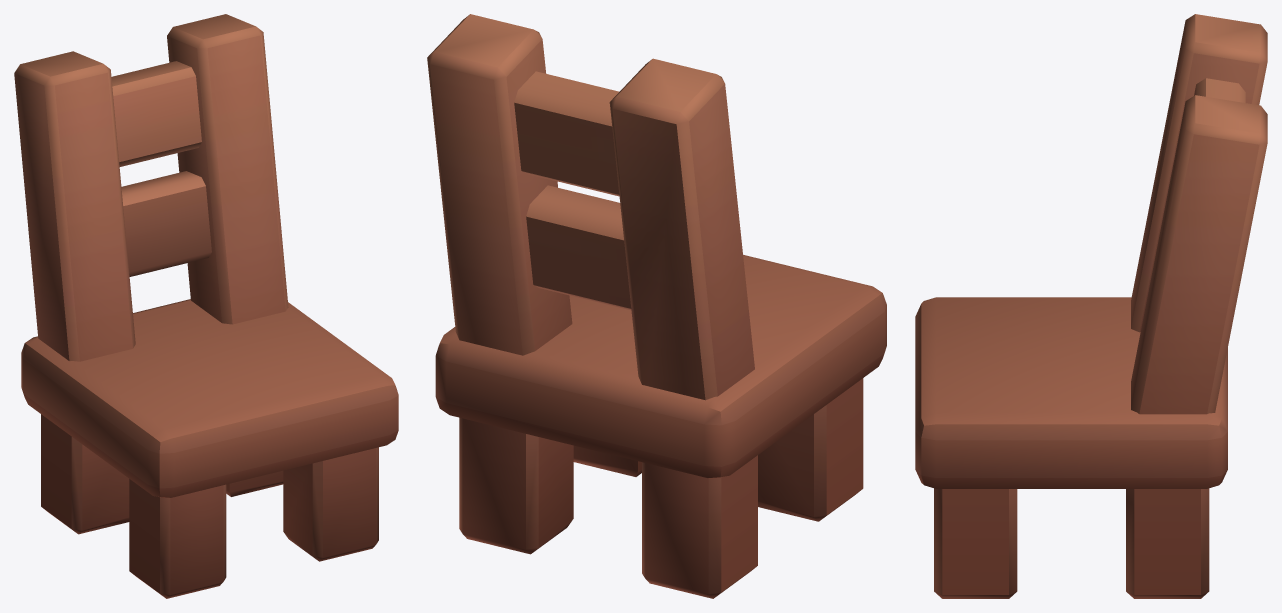
Rendered from chair-wood.glb.
The picture shows the model from 3 angles, left to right: view 1: azimuth 30°, elevation 25°; view 2: azimuth 150°, elevation 25°; view 3: azimuth 270°, elevation 25°; orthographic projection. The views are drawn at different scales.
Visible parts, largest first — view 1: chair_A_wood; view 2: chair_A_wood; view 3: chair_A_wood.
Part boxes in pixels (x1,y1,x2,y2): chair_A_wood: [14, 14, 398, 598]; chair_A_wood: [427, 14, 886, 598]; chair_A_wood: [915, 14, 1267, 598].
Bounding box in the file's own units: 0.5364 × 0.9 × 0.6044.
1 material, 1 textured.
